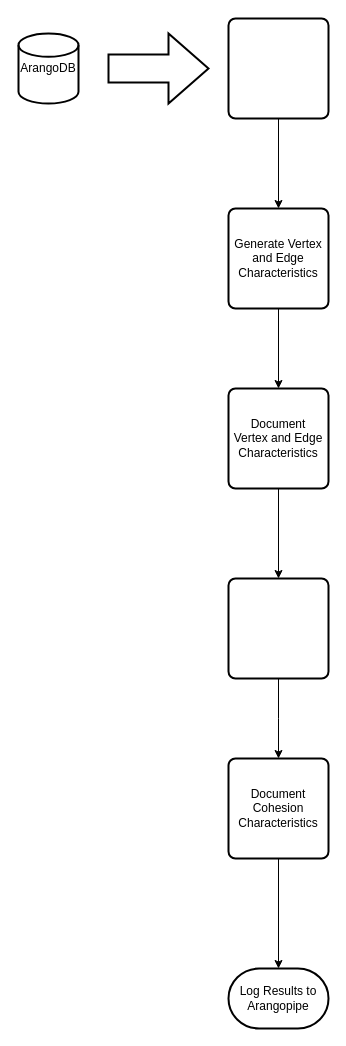
The diagram is 346 pixels wide and 1046 high, and some of its shapes have lost their labels. Each missing label, with the centre of its shape:
"Generate Cohesion Characteristics" belongs at (278,628).
"Read Graph Database" belongs at (278,68).
